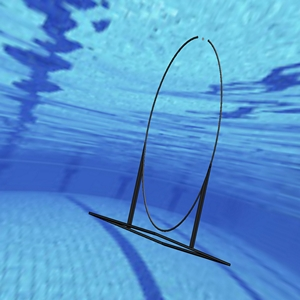circle: (88, 36, 231, 265)
